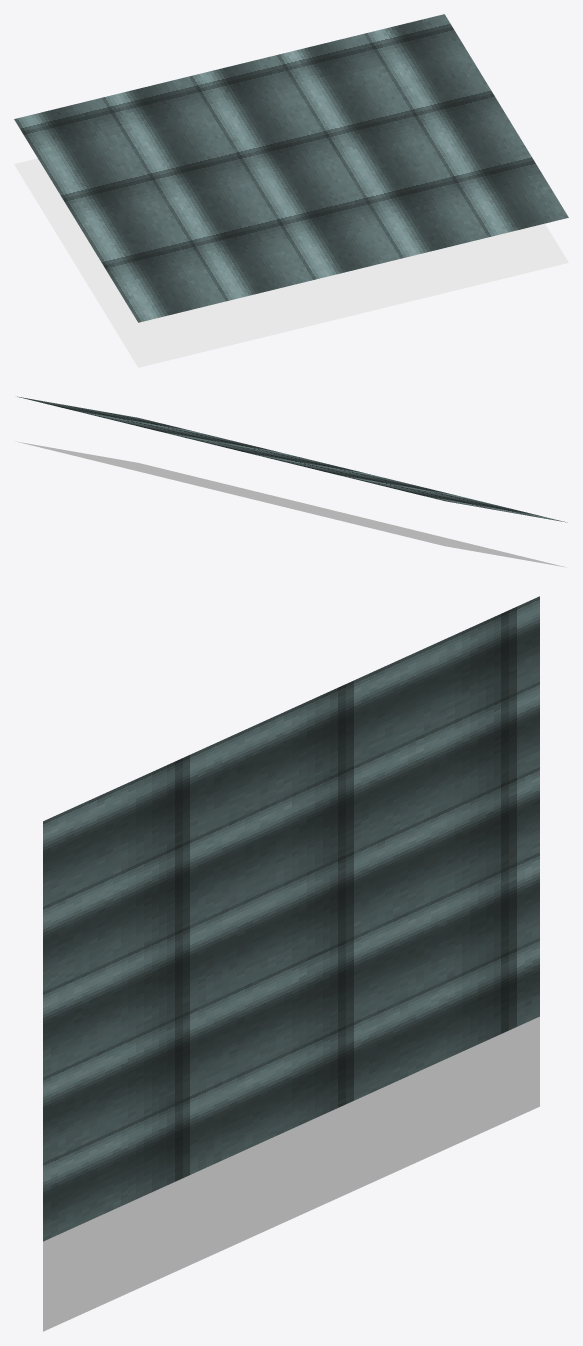
The model's file is roof_mid_2x1.glb.
3 renders of one model, top to bottom at view 1: azimuth 30°, elevation 25°; view 2: azimuth 150°, elevation 25°; view 3: azimuth 270°, elevation 25°, orthographic. The views are drawn at different scales.
Visible parts, largest first — view 1: roof_mid_2x1; view 2: roof_mid_2x1; view 3: roof_mid_2x1.
Boxes of the visible parts, x1=… form: roof_mid_2x1: x1=14, y1=14, x2=568, y2=367; roof_mid_2x1: x1=15, y1=396, x2=567, y2=567; roof_mid_2x1: x1=43, y1=596, x2=539, y2=1331.
Bounding box in the file's own units: 2 × 0.7 × 1.
Materials: 2 (1 with a texture image).
